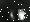person: (19, 10, 26, 21), (9, 10, 16, 20)
